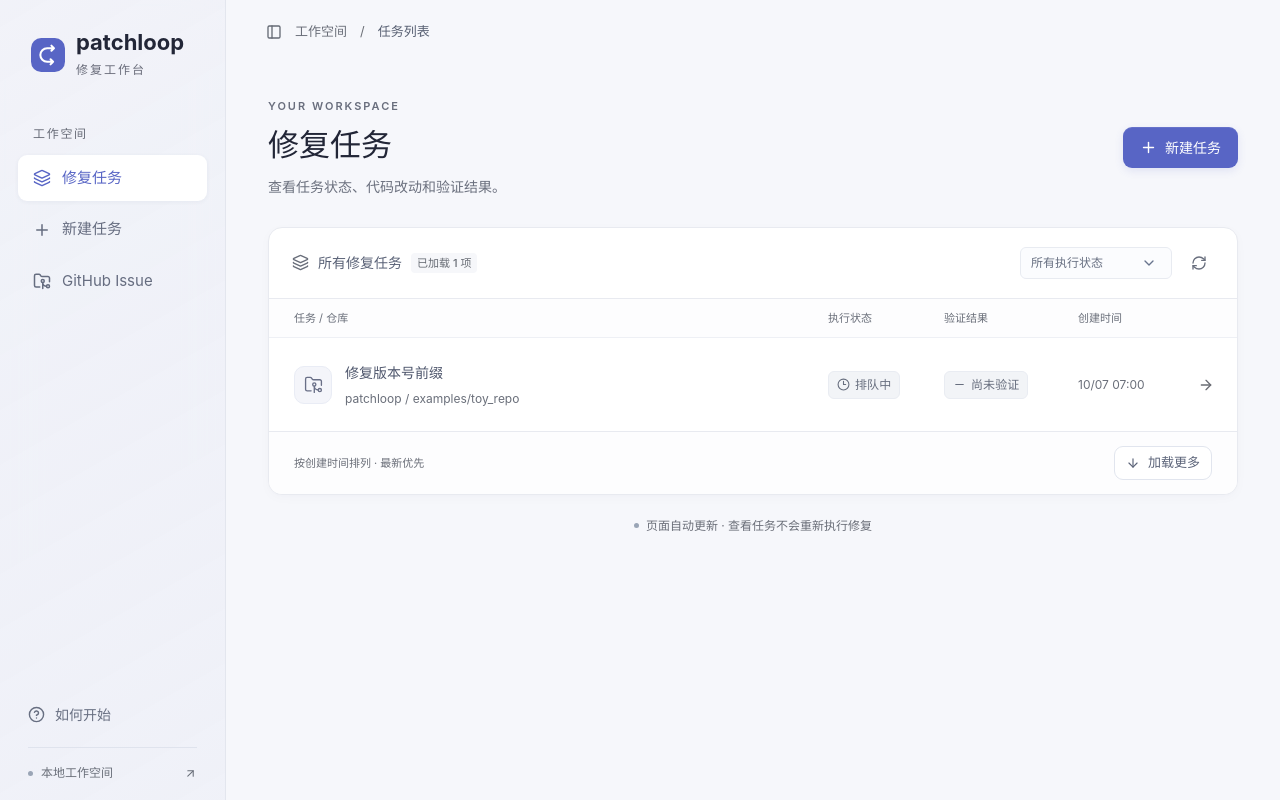
任务工作台 › loads another page and starts a fresh cursor when filters change
Step 1. Click the button "加载更多" → (1163, 463), box [1114,446,1212,480]
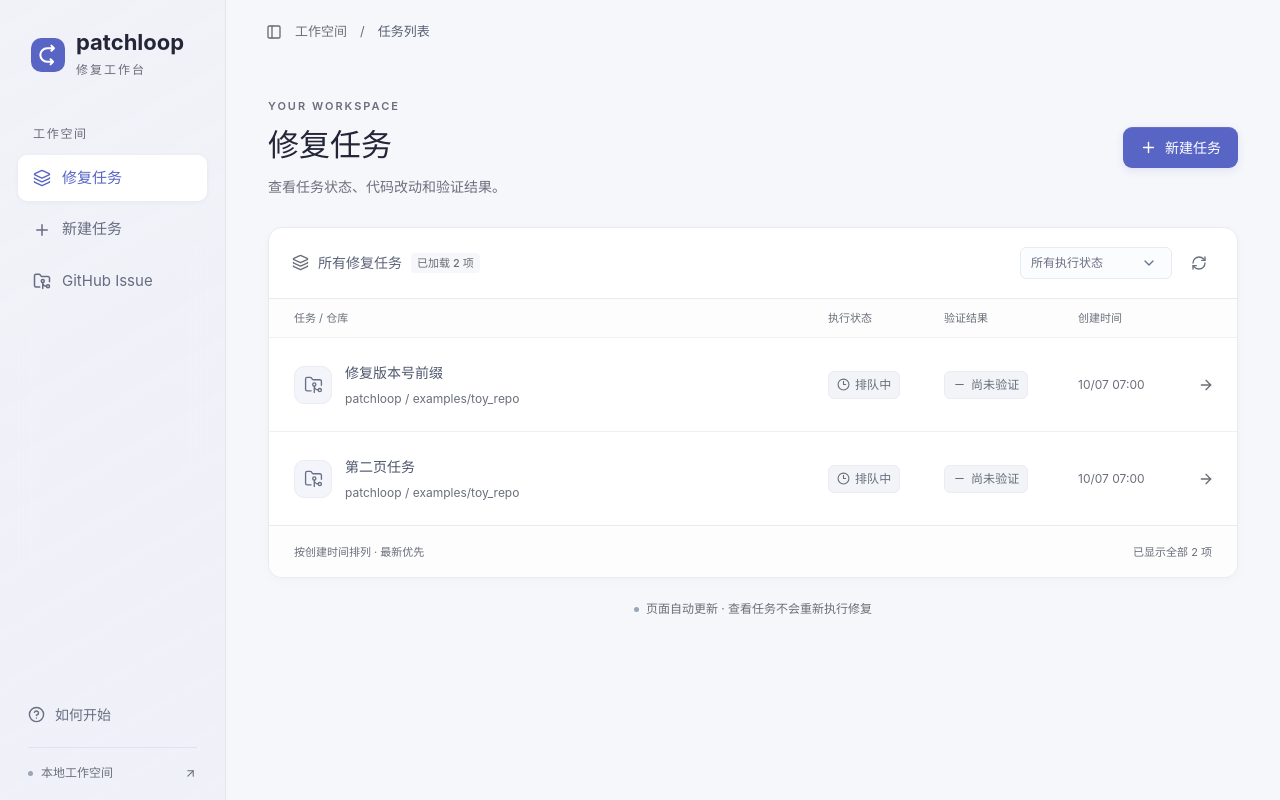
Expected: the text "第二页任务" is shown, [345,458,415,475]
Step 2. Click the dropdown named "执行状态筛选" → (1096, 263), box [1020,247,1172,279]
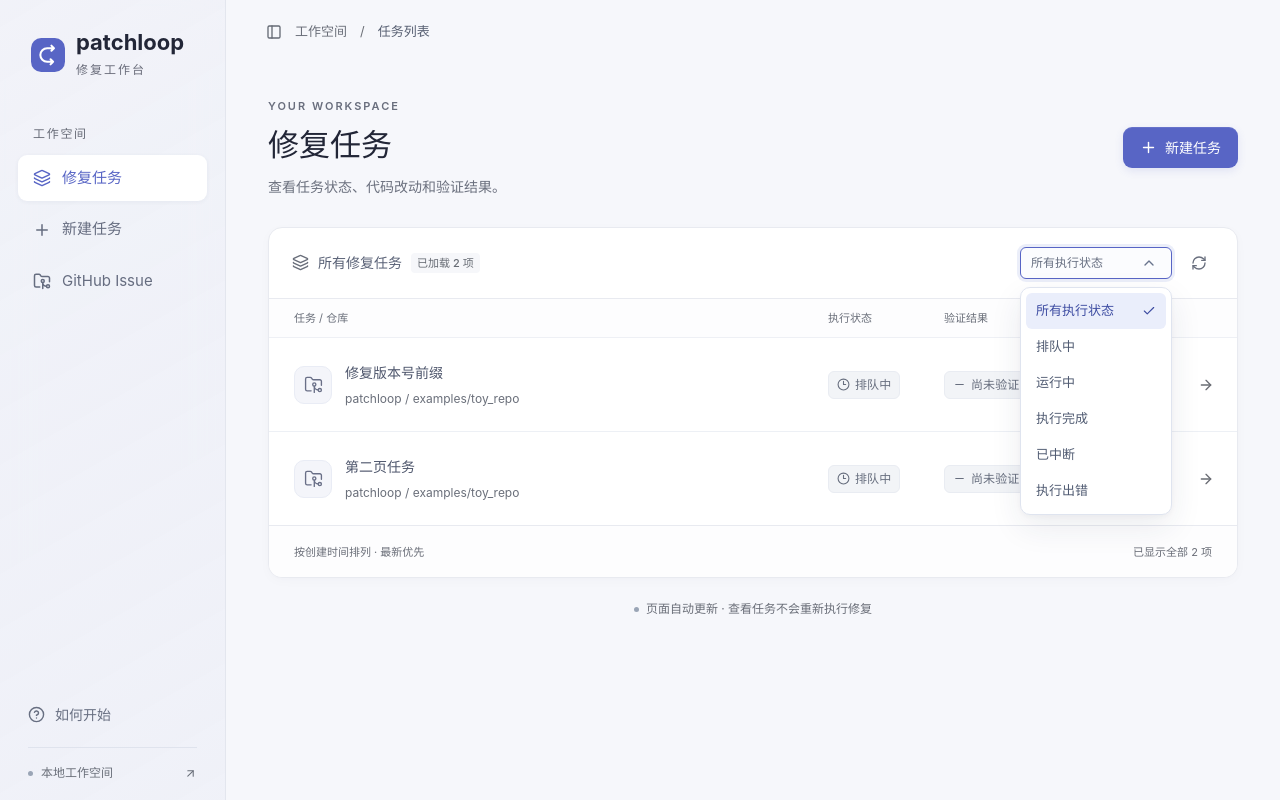
Step 3. Click the option "执行出错" → (1062, 490), box [1036,482,1088,498]
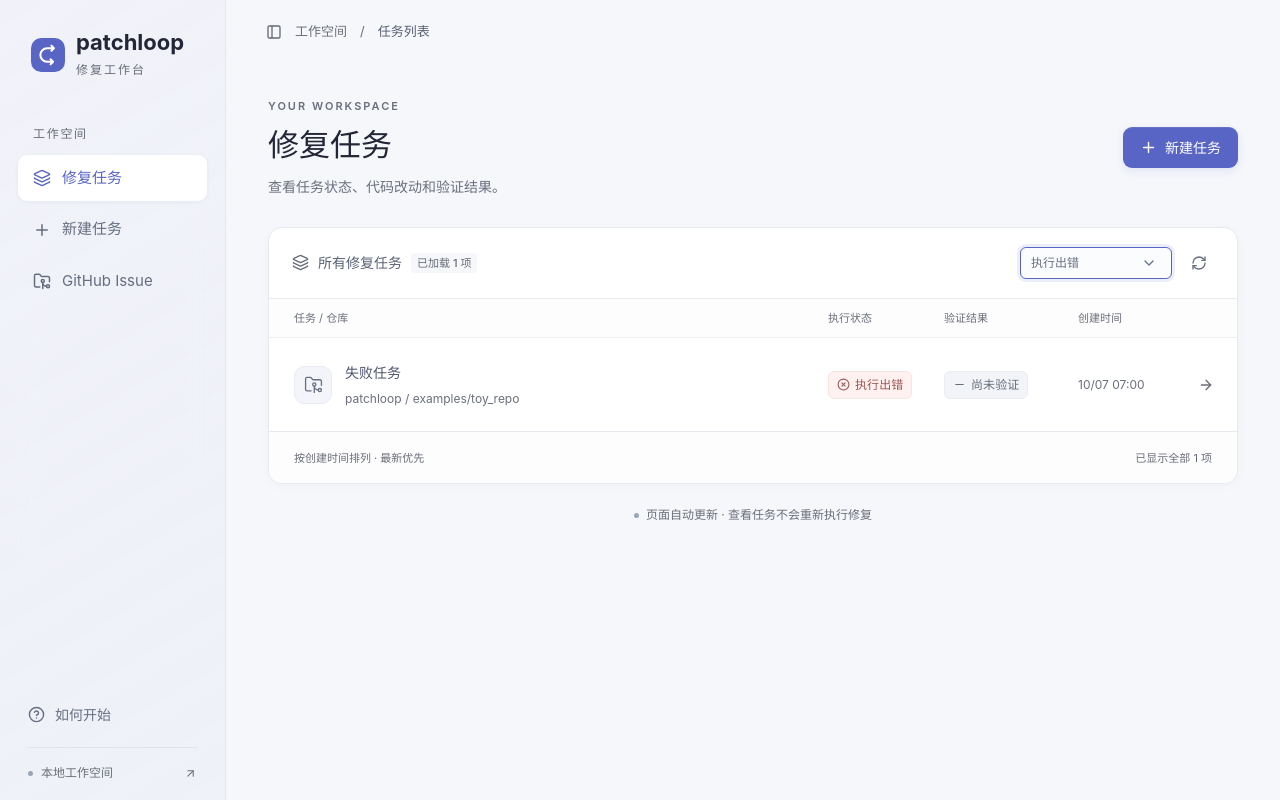
Expected: the text "失败任务" is shown, [345,364,401,381]
Expected: the link "第二页任务" is gone
Step 4. Click the dropdown named "执行状态筛选" → (1096, 263), box [1020,247,1172,279]
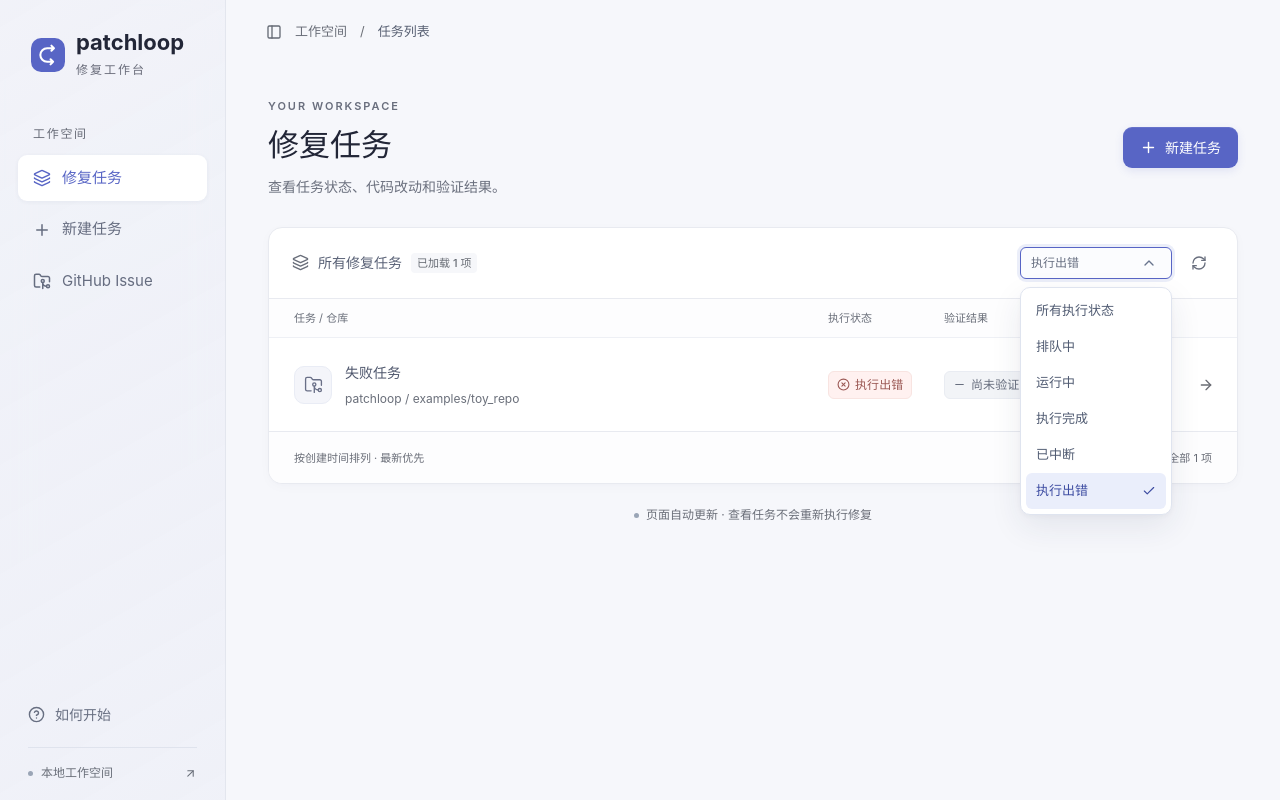
Step 5. Click the option "所有执行状态" → (1075, 310), box [1036,302,1114,318]
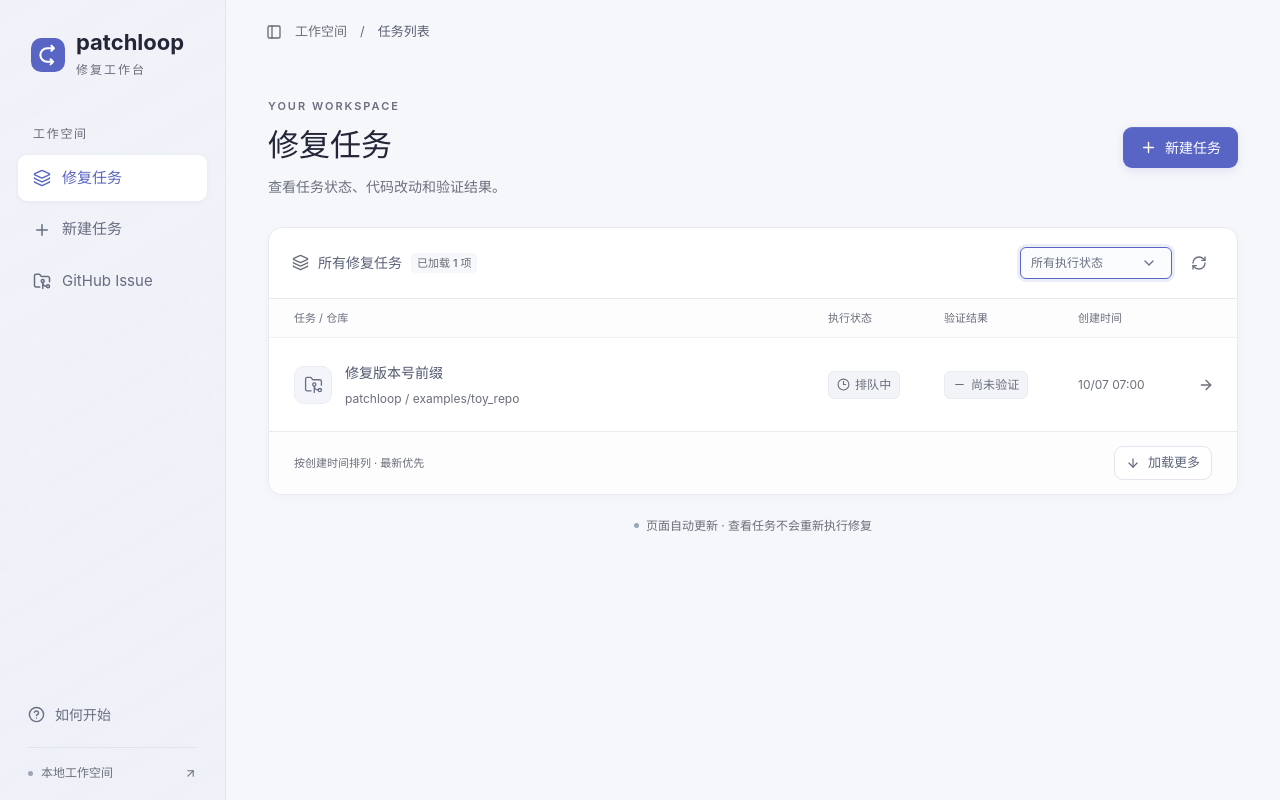
Expected: the text "修复版本号前缀" is shown, [345,364,443,381]
Expected: the dropdown named "执行状态筛选" reads "所有执行状态", [1020,247,1172,279]
